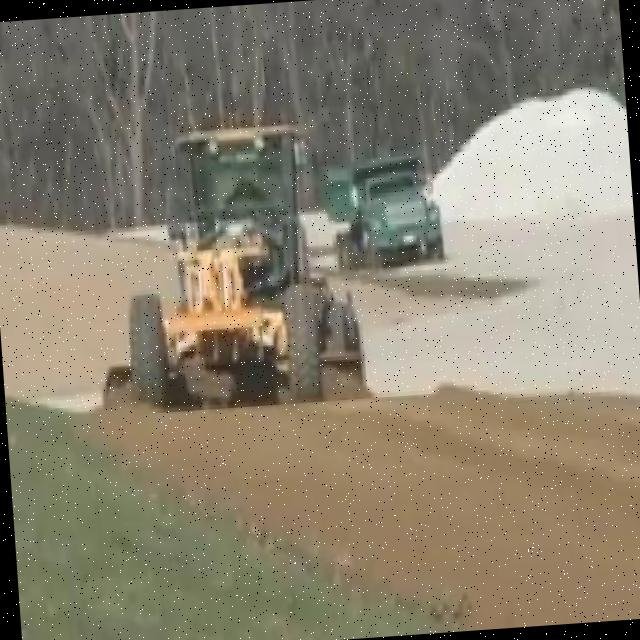Dump Truck: (322, 148, 442, 272)
Grader: (86, 109, 375, 434)
